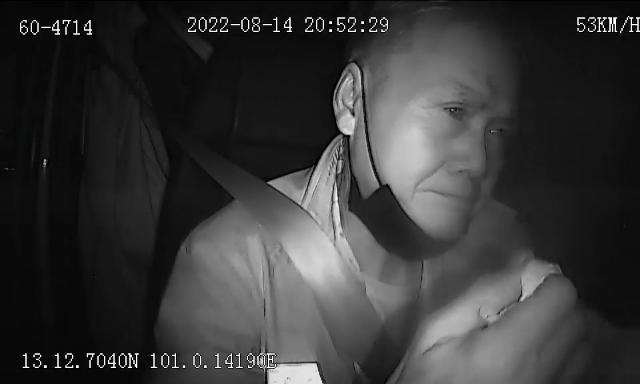SafeDriving: (434, 89, 473, 128), (480, 113, 517, 145)
Seatbelt: (203, 160, 385, 366)
